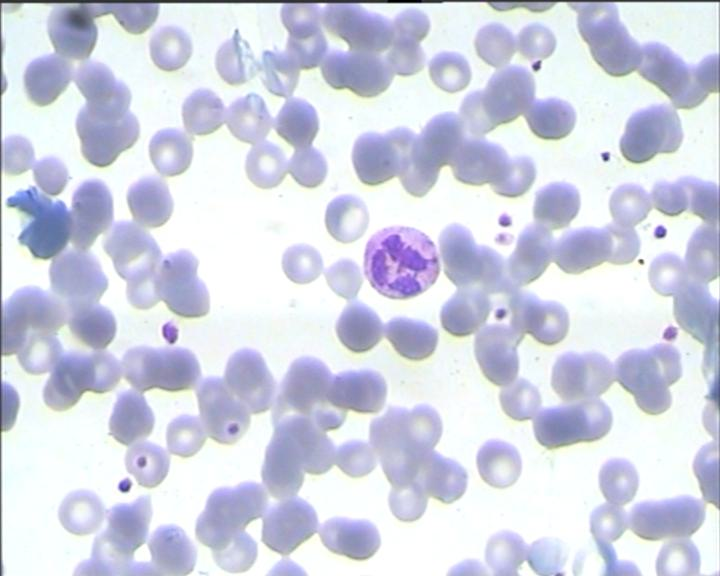neut: (363, 219, 445, 299)
